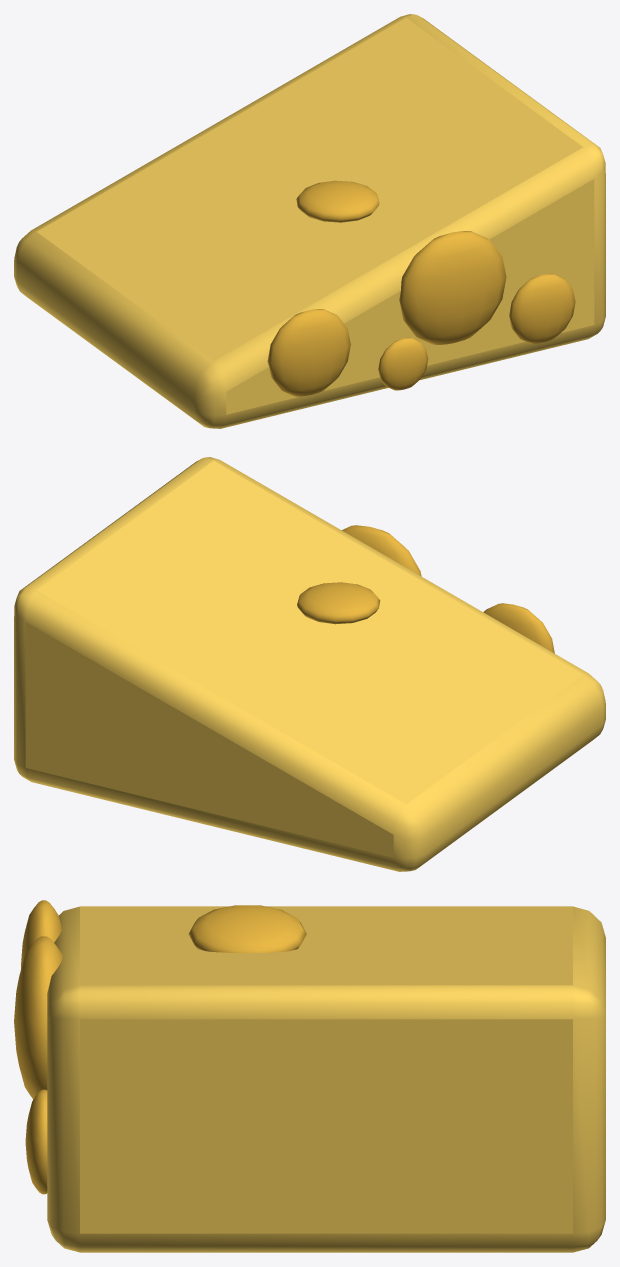
Rendered from cheese.glb.
3 views of the same model, one above another, from view 1: azimuth 30°, elevation 25°; view 2: azimuth 150°, elevation 25°; view 3: azimuth 270°, elevation 25° (orthographic). The views are drawn at different scales.
Parts seen in each view (by area): view 1: wedge, ce8b53c; view 2: wedge, ce8b53c; view 3: wedge, ce8b53c.
Part boxes in pixels (box(x1,y1,x2,y2)): wedge: box(14, 14, 605, 428); ce8b53c: box(267, 180, 575, 396); wedge: box(14, 457, 605, 871); ce8b53c: box(297, 525, 554, 653); wedge: box(47, 906, 605, 1252); ce8b53c: box(14, 900, 306, 1194).
Size of the model in its own units: 1 by 0.4463 by 0.9005.
